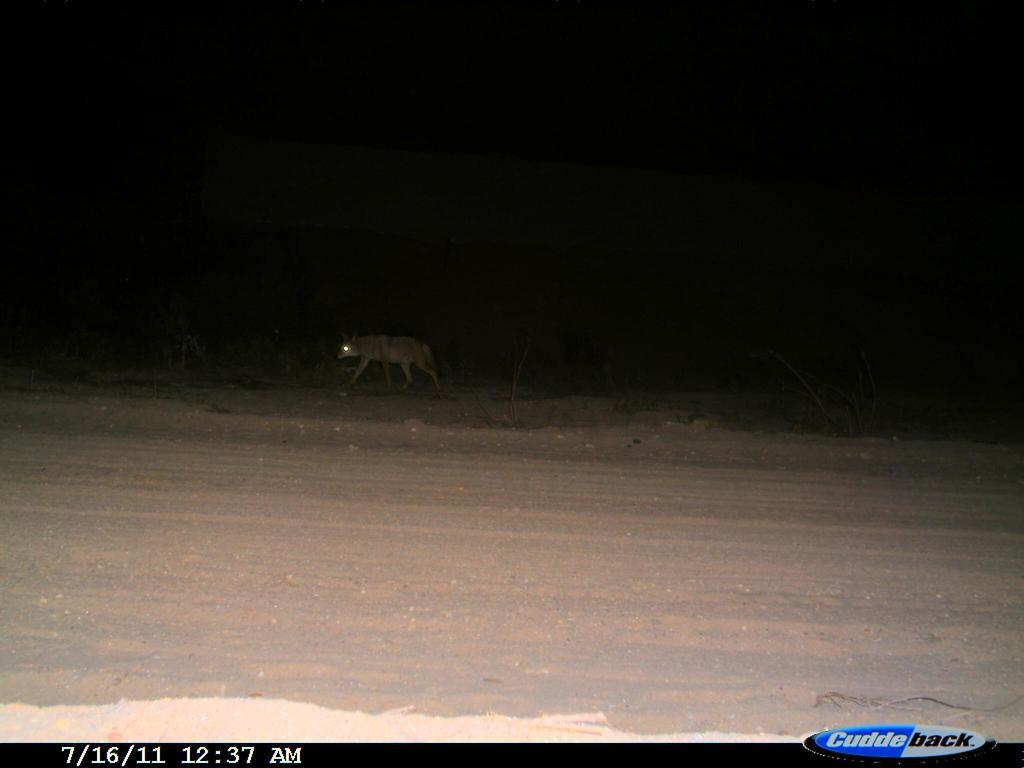coyote: (329, 326, 456, 409)
